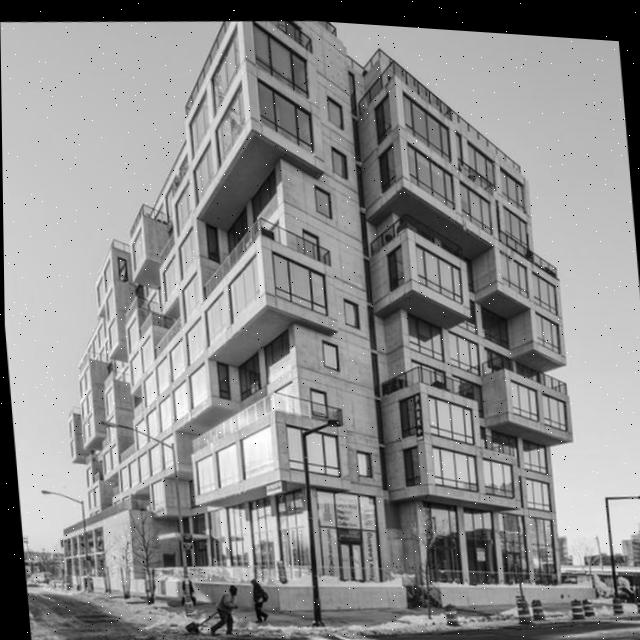building: (33, 2, 589, 637)
